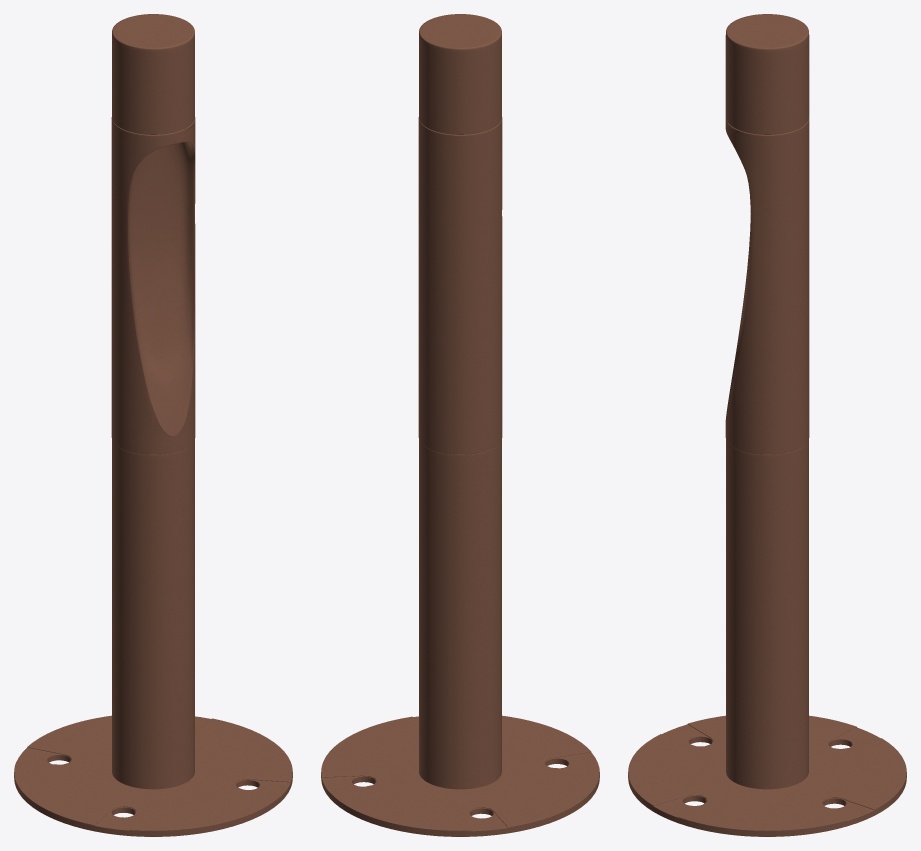
The model's file is Flindt_Bollard_Outdoor_80_cm_Corten.glb.
The picture shows the model from 3 angles, left to right: view 1: azimuth 30°, elevation 25°; view 2: azimuth 150°, elevation 25°; view 3: azimuth 270°, elevation 25°; orthographic projection.
Visible parts, largest first — view 1: plastic; view 2: plastic; view 3: plastic.
Boxes of the visible parts, x1,y1,x2,y2 form: plastic: (14,14,292,836); plastic: (321,14,599,836); plastic: (628,14,906,836).
Bounding box in the file's own units: 0.2705 × 0.8 × 0.2705.
Materials: 2 (2 with a texture image).
